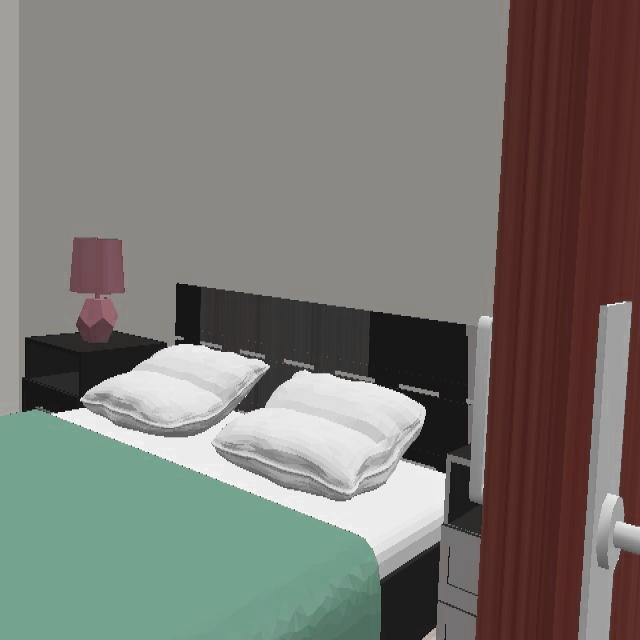bed: (0, 283, 469, 638)
lamp: (70, 238, 125, 342)
nighttable: (21, 330, 166, 411)
pillow: (212, 372, 425, 500), (81, 345, 269, 435)
